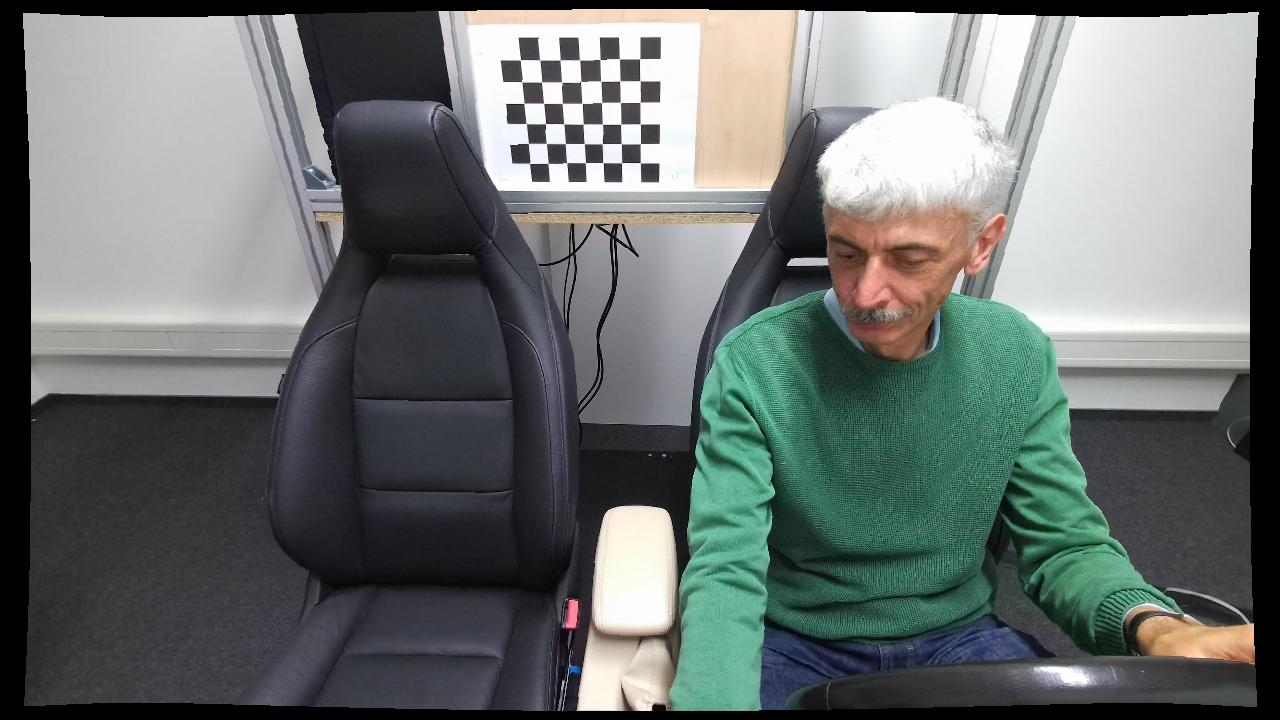Distracted: (667, 96, 1167, 709)
